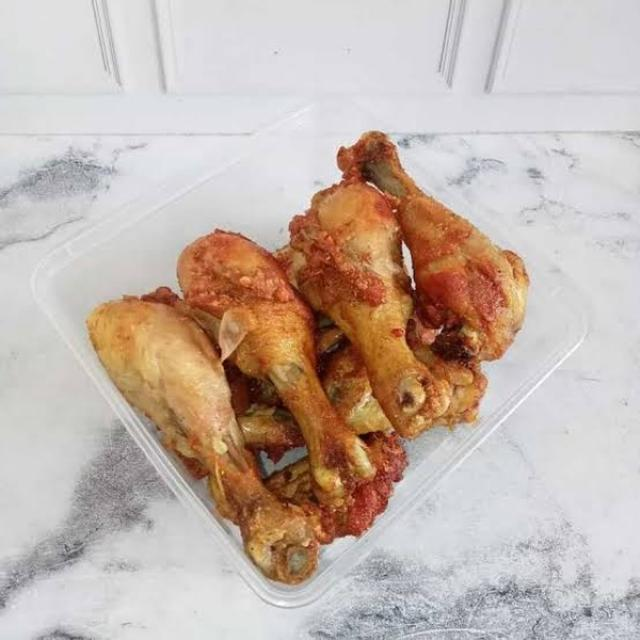CHICKEN FRY: (90, 126, 532, 580)
